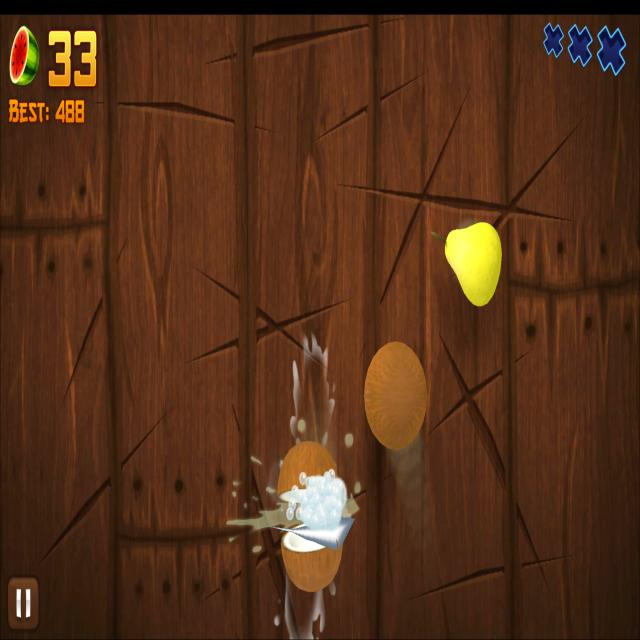fruit: (364, 338, 428, 452), (443, 221, 502, 307)
